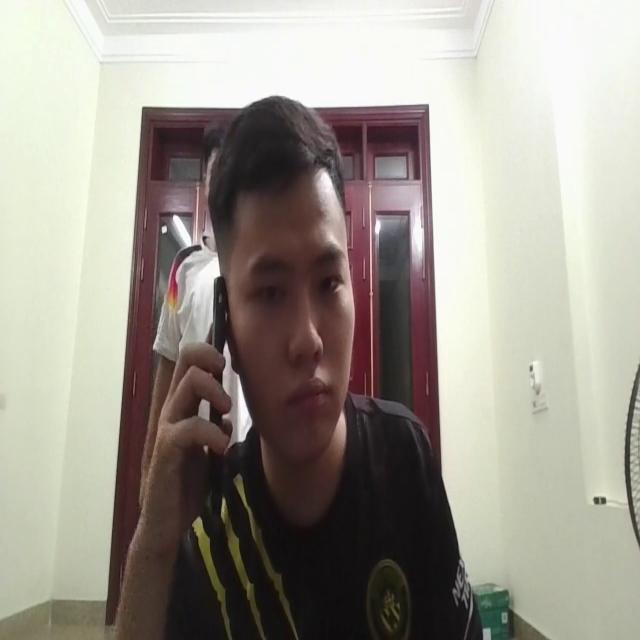extra_person: (165, 126, 228, 356)
phone: (206, 275, 228, 505)
student: (151, 95, 475, 640)
